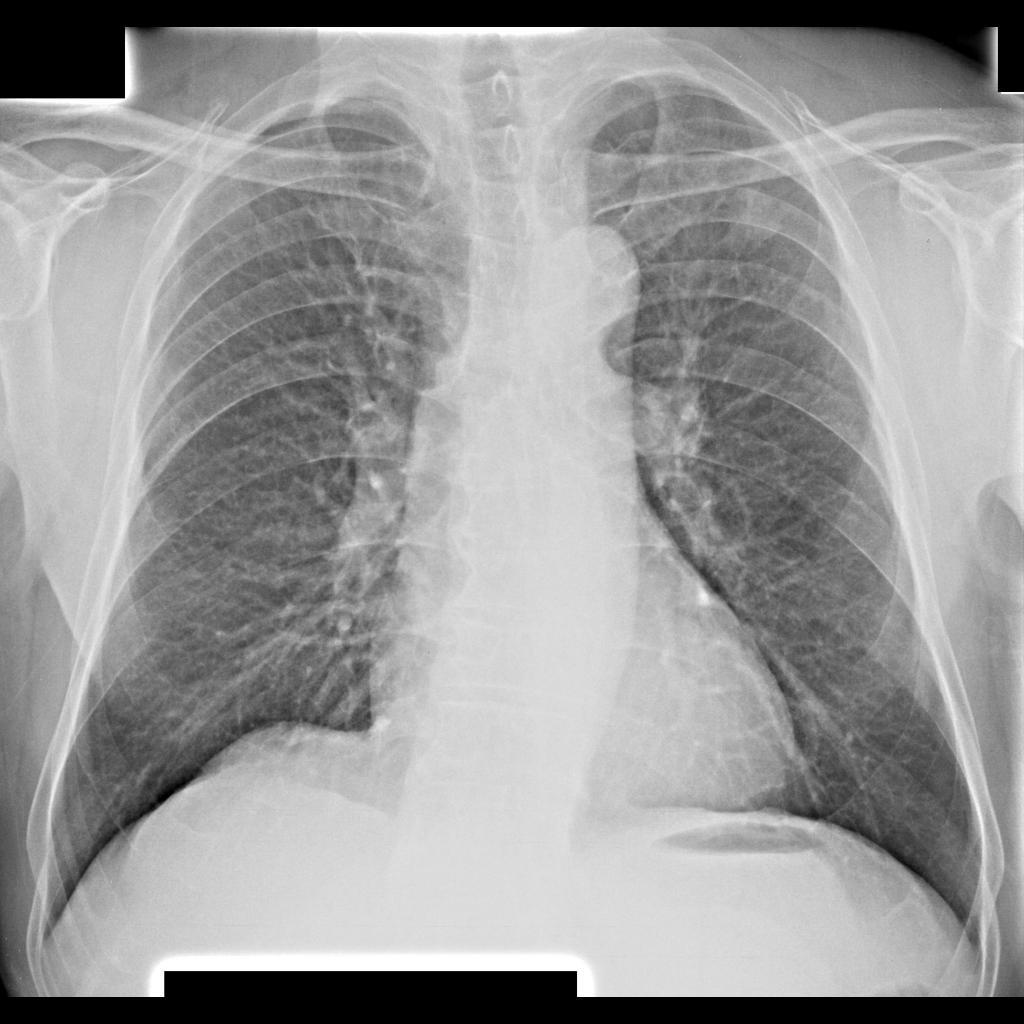Nodule: (721, 190, 783, 252)
